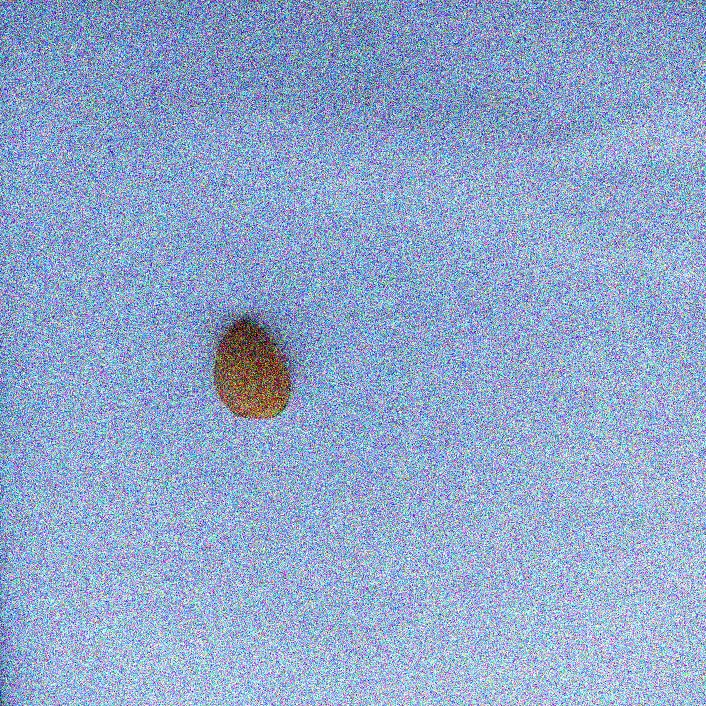grade2: (210, 317, 298, 422)
